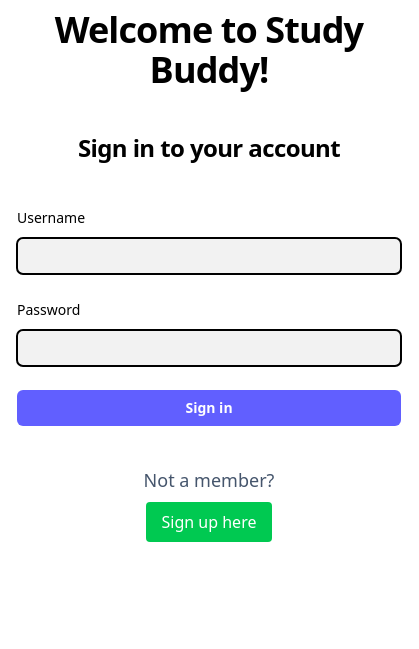
Test: Home Component › clears error when user starts typing
// Trigger an error first
Type "test" into the field labelled "Username" at (209, 256), box [17,238,401,274]
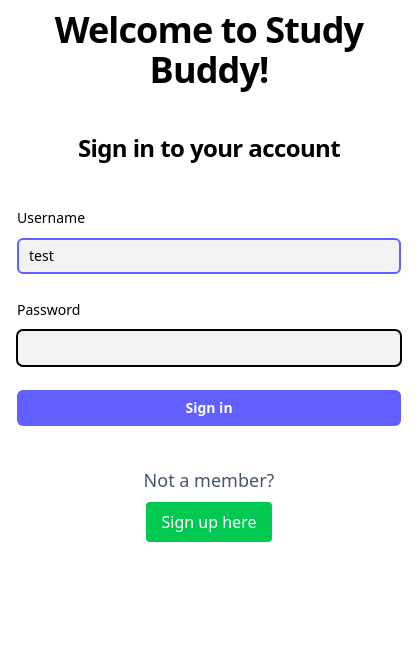
Type "pass" into the password field labelled "Password" at (209, 348), box [17,330,401,366]
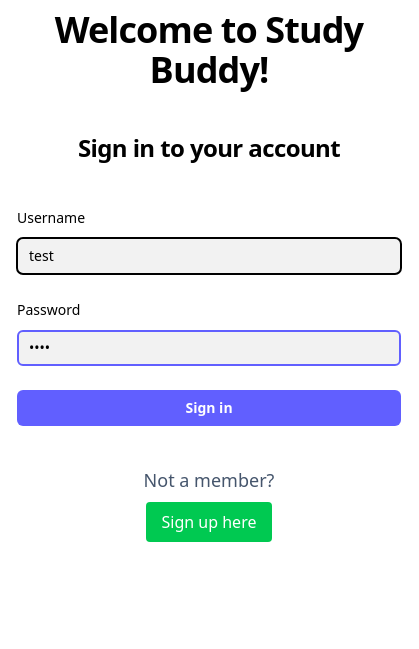
Click the button "Sign in" at (209, 408), box [17,390,401,426]
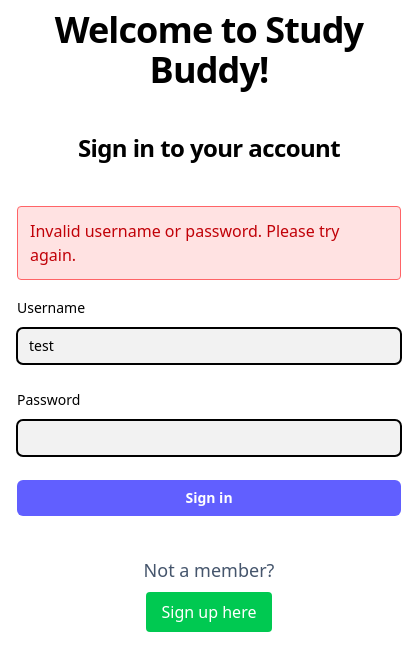
Now the text "Invalid username or password. Please try again." is shown, box [17,206,401,280]
// Start typing to clear error
Type "u" into the field labelled "Username" at (209, 346), box [17,328,401,364]
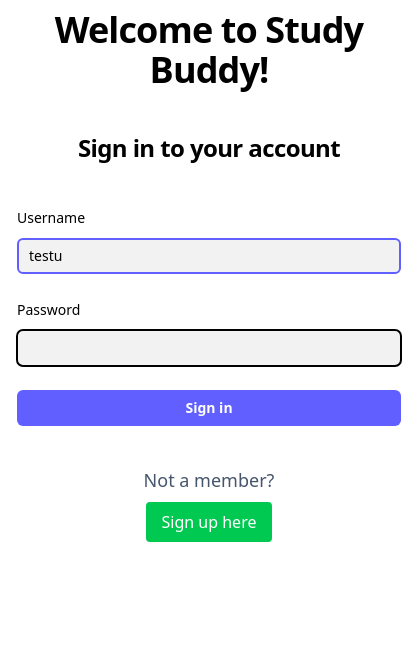
Now the text "Invalid username or password" is gone
